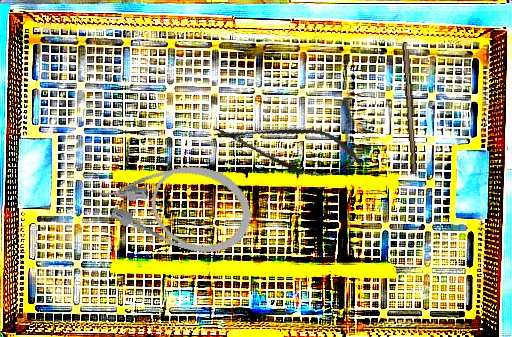Cannula: (83, 138, 262, 265)
Micro Scissor: (208, 108, 367, 187)
Scalpel Handle: (399, 41, 422, 173)
